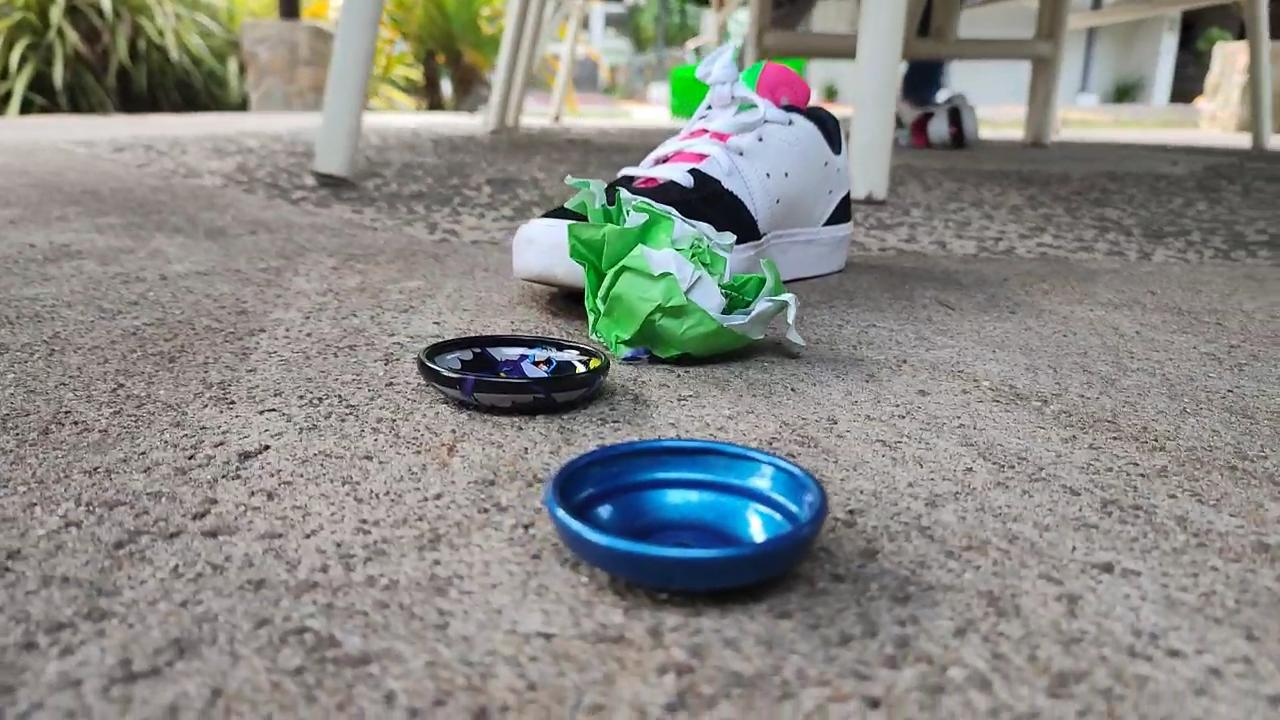Paper: (536, 145, 819, 370)
